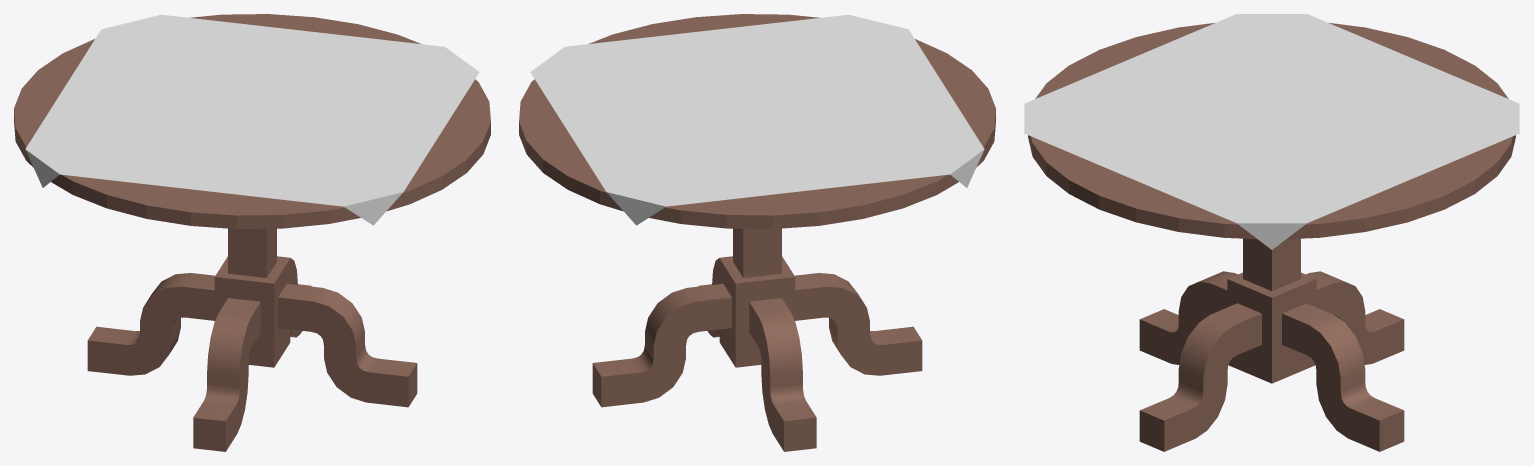
The model's file is SM_Table.fbx.
3 renders of one model, left to right at view 1: azimuth 30°, elevation 25°; view 2: azimuth 150°, elevation 25°; view 3: azimuth 270°, elevation 25°, orthographic. The views are drawn at different scales.
Visible parts, largest first — view 1: Cylinder; view 2: Cylinder; view 3: Cylinder.
Part boxes in pixels (bbox=[...]): Cylinder: bbox=[14, 14, 490, 451]; Cylinder: bbox=[519, 14, 995, 451]; Cylinder: bbox=[1024, 14, 1519, 451].
Bounding box in the file's own units: 203 × 125 × 203.
